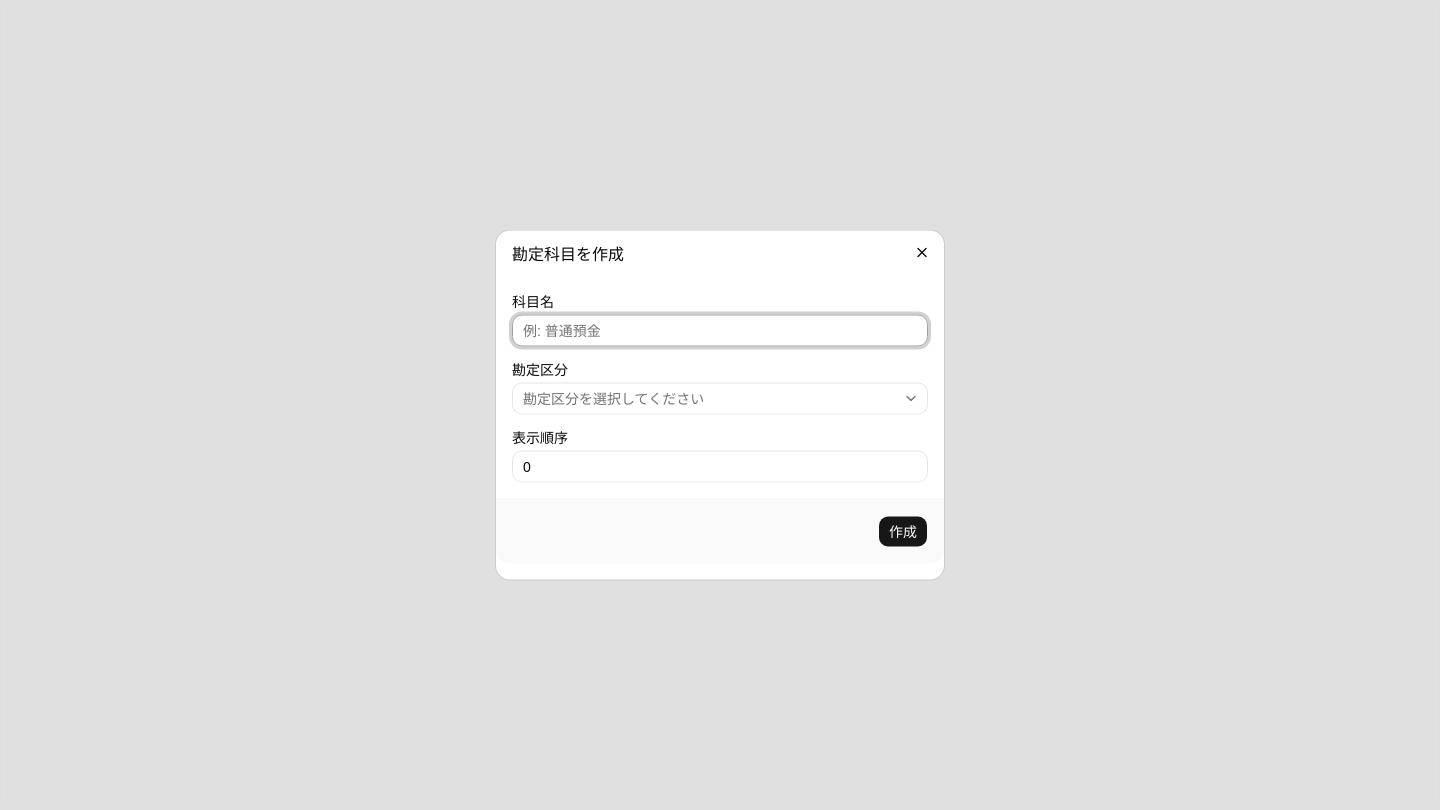
AccountForm › shows validation error for empty name
Click the button "作成".
click(903, 532)  # box [878, 516, 928, 548]
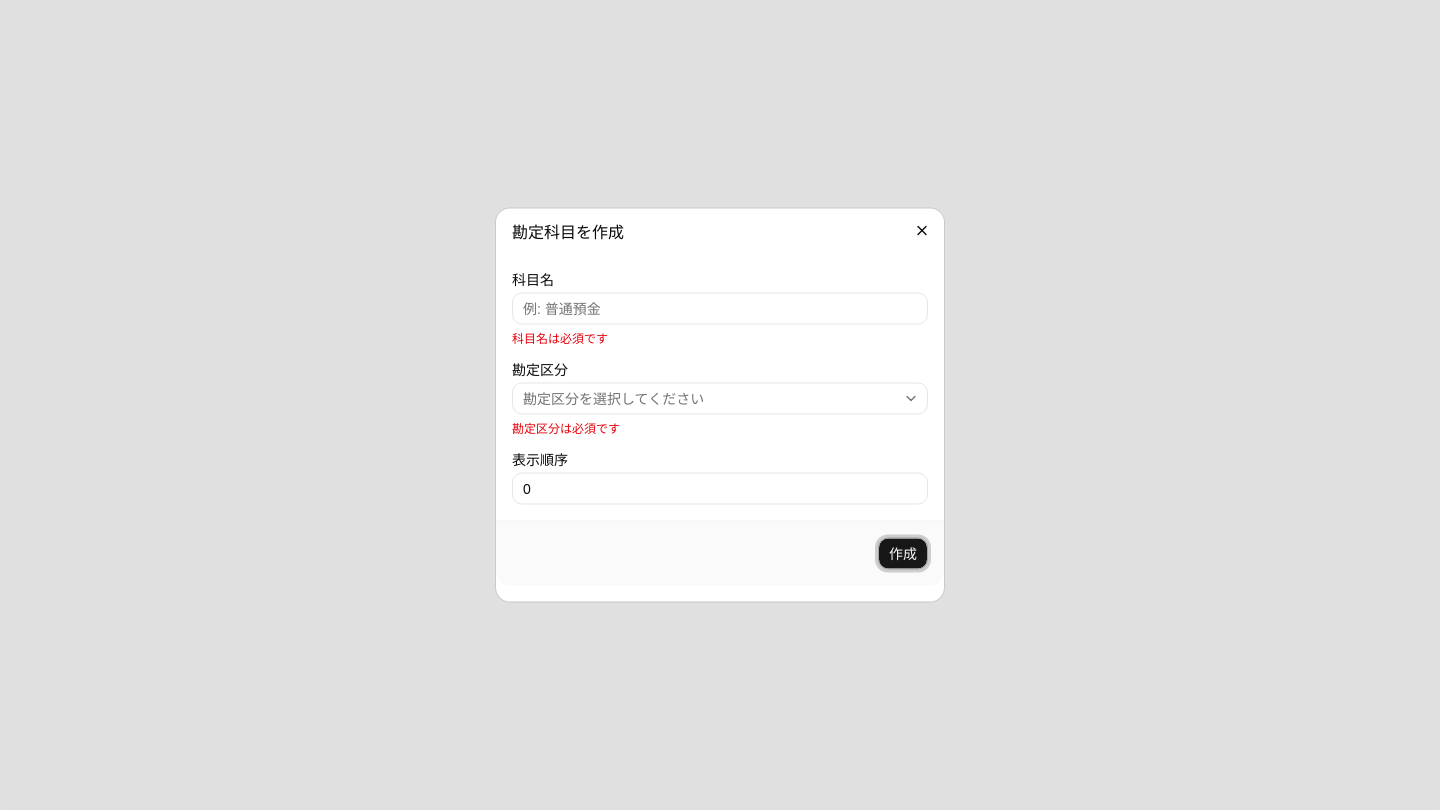
expect the text "科目名は必須です" is shown: met, box [512, 332, 608, 346]
